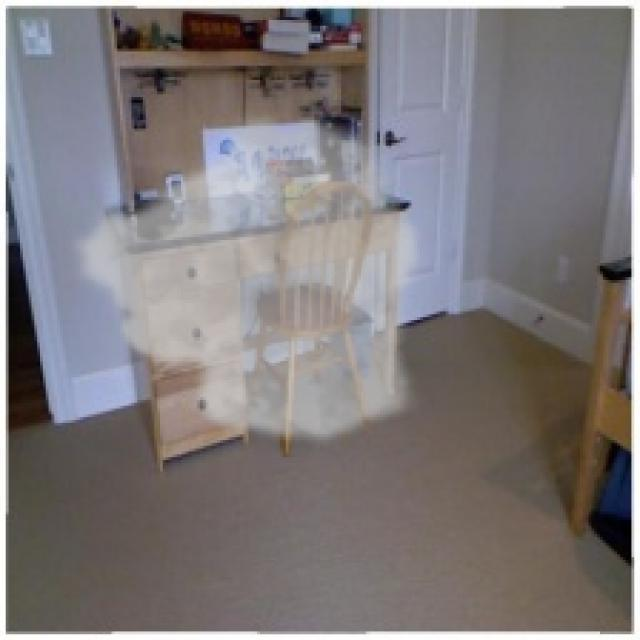Smoke: (68, 106, 426, 448)
